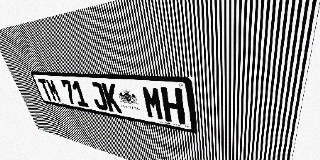1: (70, 81, 89, 107)
7: (60, 80, 78, 106)
H: (160, 87, 186, 125)
J: (88, 82, 109, 111)
K: (101, 83, 122, 113)
M: (141, 86, 165, 121), (45, 79, 62, 103)
T: (37, 78, 54, 101)
